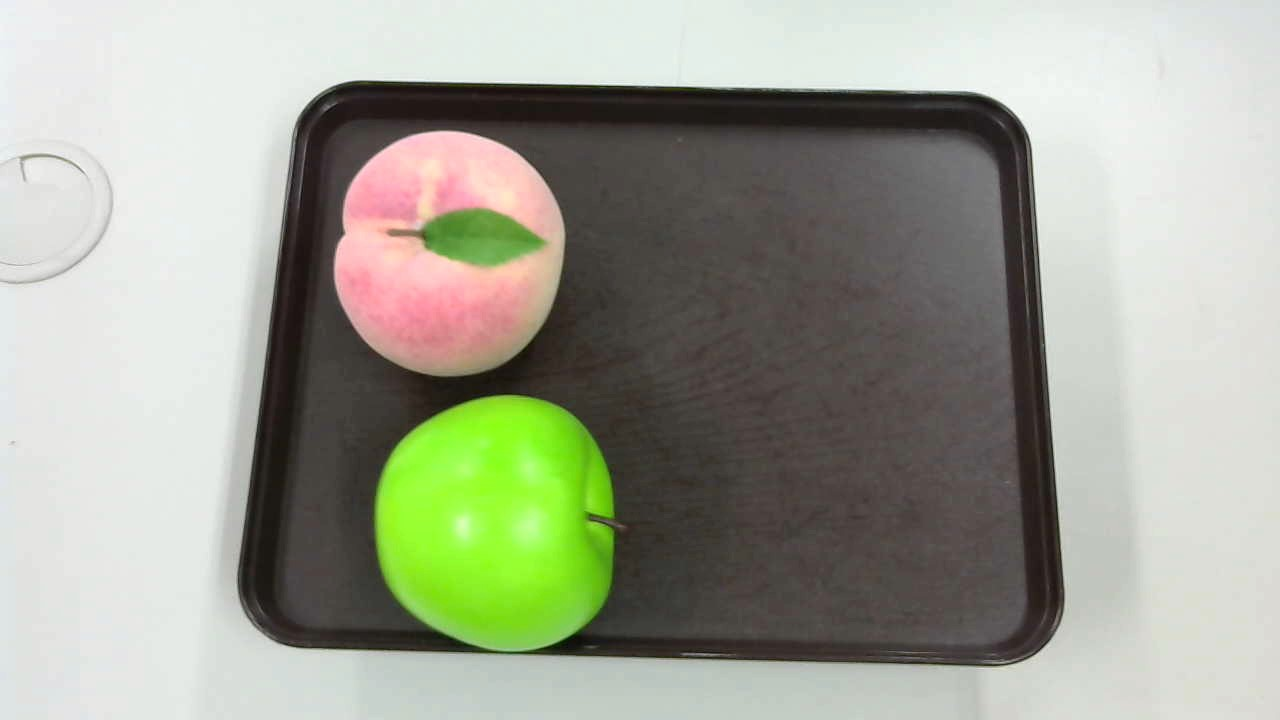green apple: (377, 393, 630, 651)
peach: (326, 130, 566, 374)
